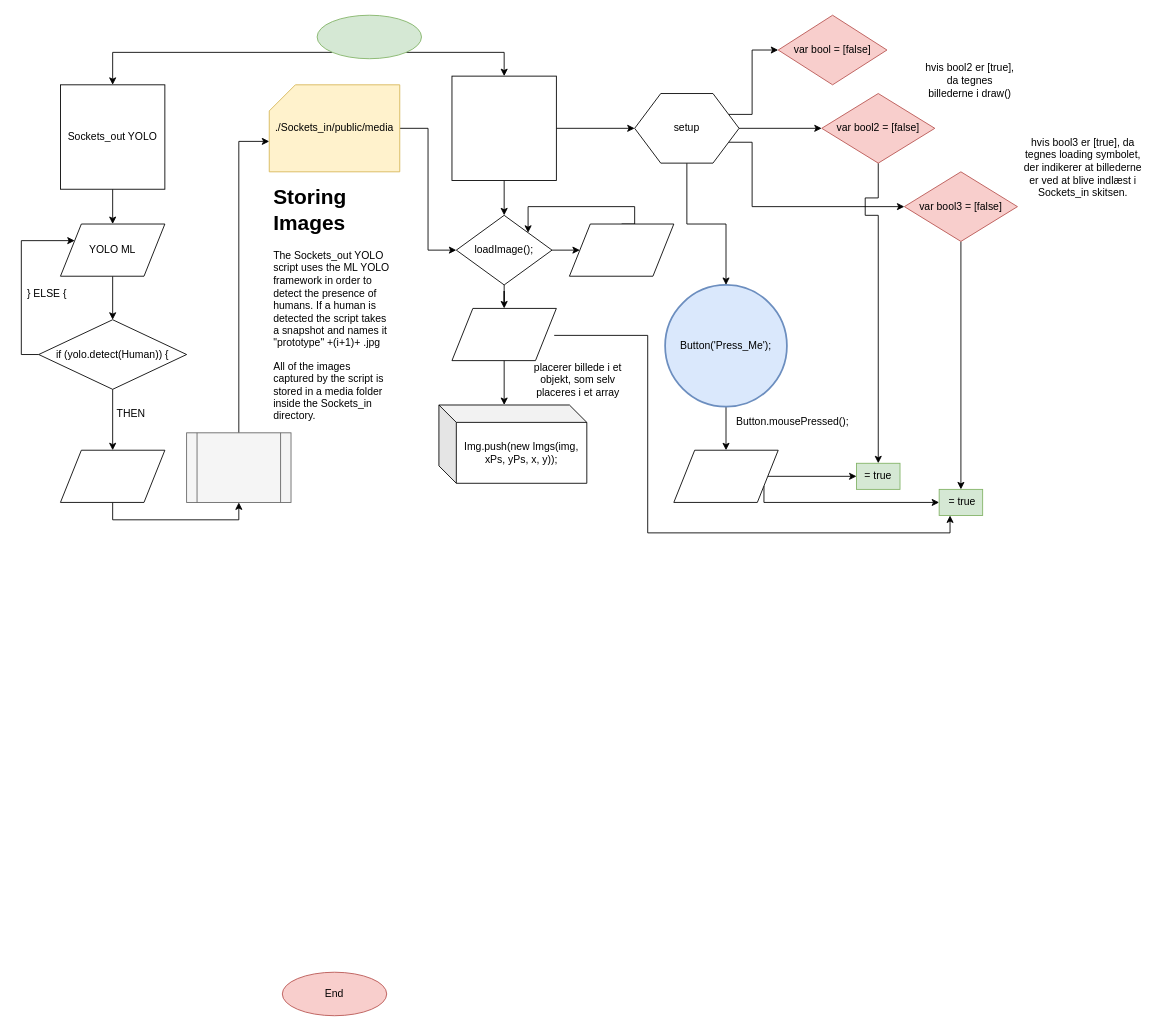
The diagram is 1164 pixels wide and 1031 high, and some of its shapes have lost their labels. Each missing label, with the box of its shape:
'media/prototype ('+(i+1)+').jpg': (186, 432, 291, 502)
Initiate(): (673, 449, 778, 502)
loadFail: (569, 223, 674, 276)
loadSucces: (451, 308, 556, 361)
save.Canvas: (60, 449, 165, 502)
Sockets_in: (451, 75, 556, 181)
Start: (316, 14, 422, 59)
